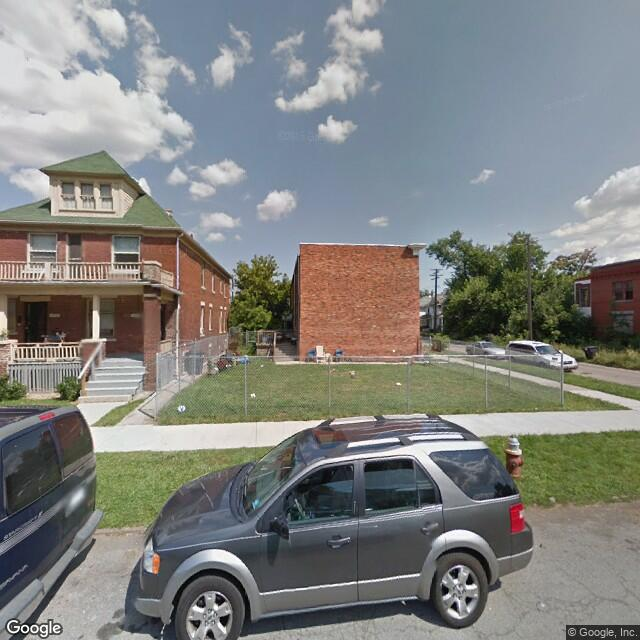litter: (533, 407, 542, 411), (397, 381, 404, 382)
